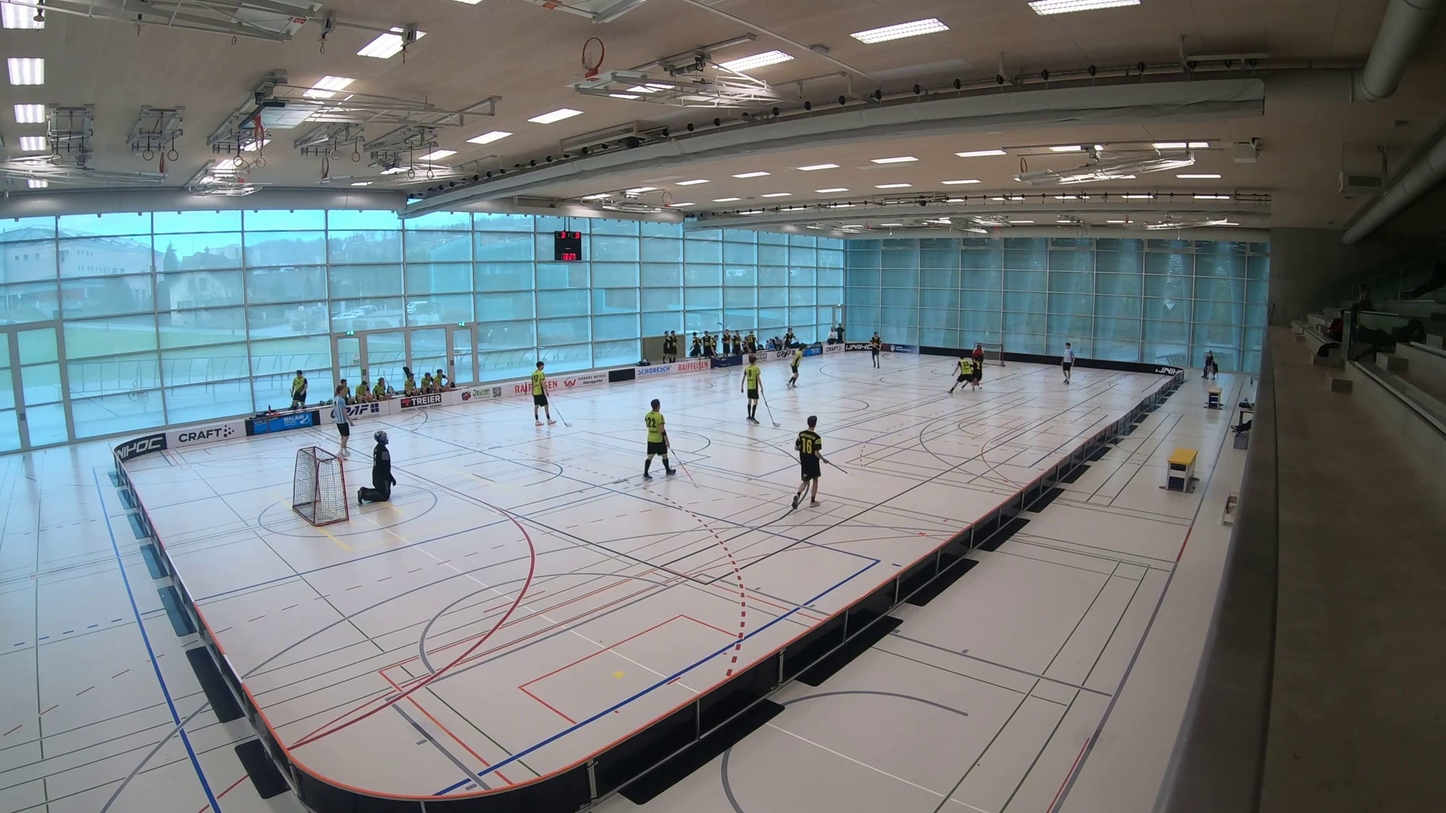Schiri: (332, 385, 353, 457), (1060, 341, 1077, 386)
goalkeeper: (357, 430, 401, 505), (971, 343, 986, 362)
player: (788, 414, 862, 510), (641, 396, 710, 489), (739, 351, 780, 428), (530, 361, 575, 429), (869, 330, 900, 369), (947, 354, 972, 395), (786, 345, 807, 390), (969, 354, 983, 393)
